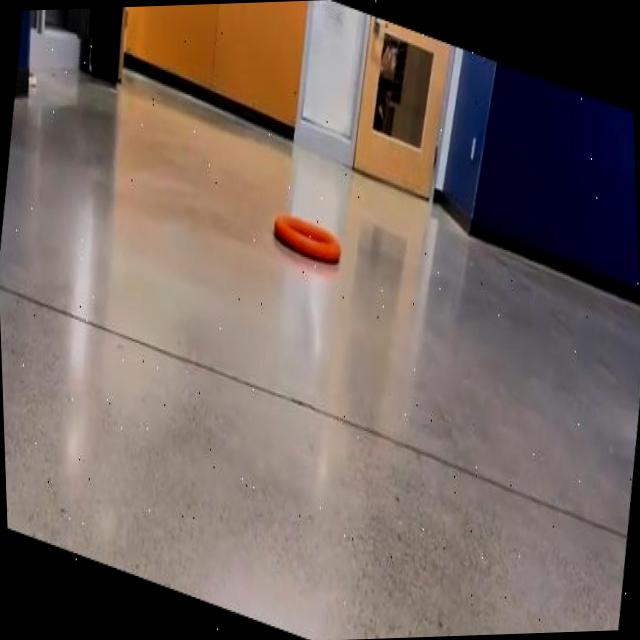note: (273, 213, 341, 263)
